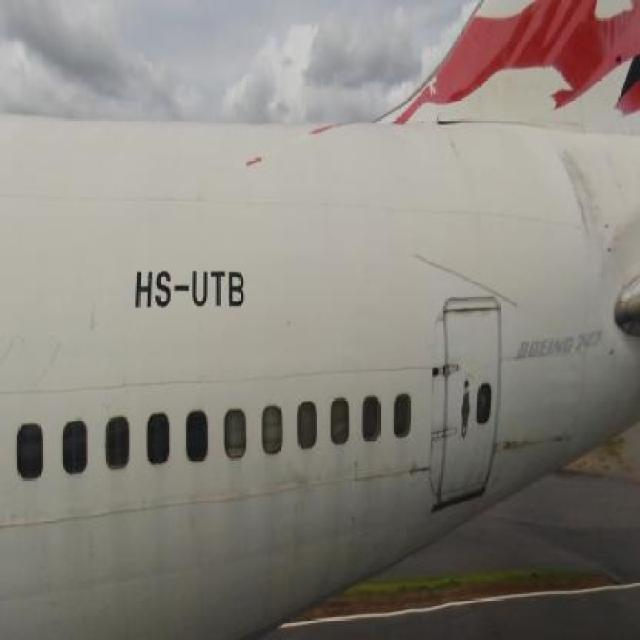Rust: (554, 138, 604, 240), (497, 425, 571, 458), (444, 303, 499, 325)
Scartch: (287, 466, 311, 560), (382, 458, 430, 480)
